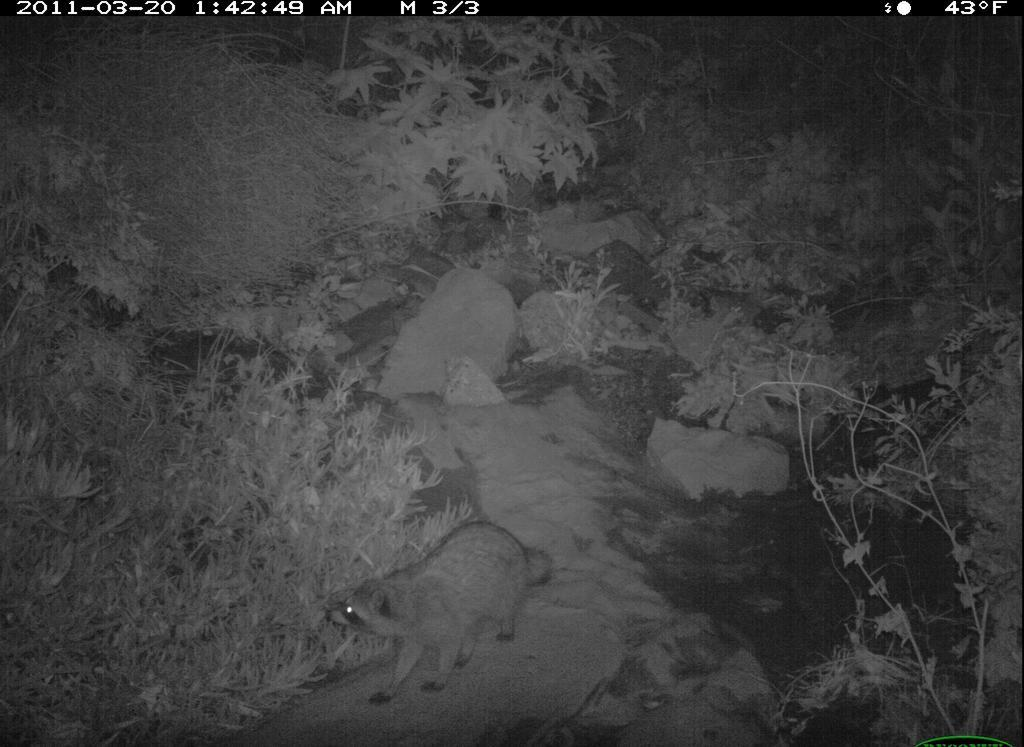raccoon: (323, 521, 561, 711)
